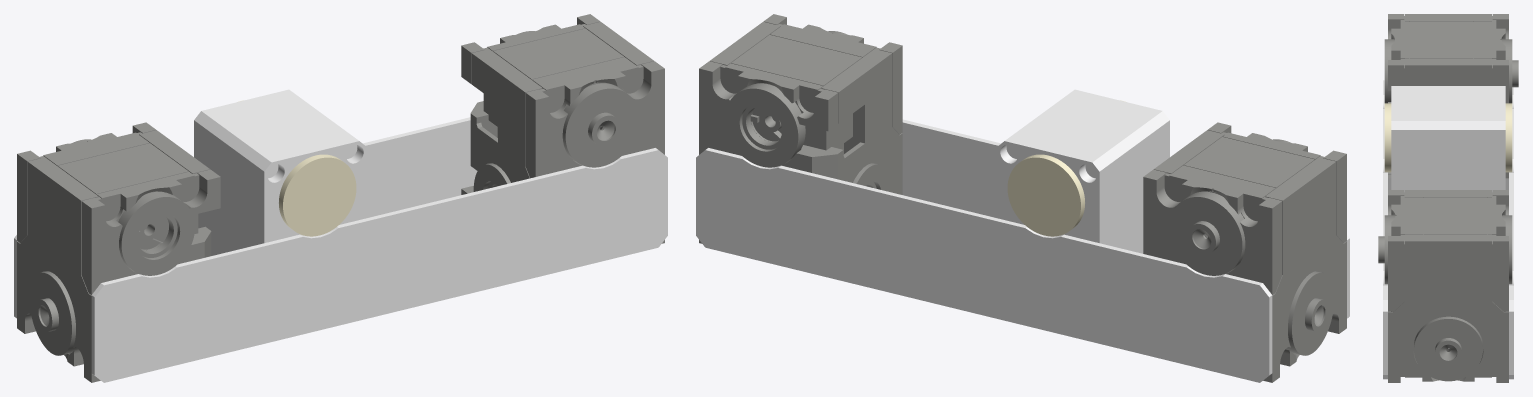
The model's file is leg_motors_visuals.dae.
3 renders of one model, left to right at view 1: azimuth 30°, elevation 25°; view 2: azimuth 150°, elevation 25°; view 3: azimuth 270°, elevation 25°, orthographic. The views are drawn at different scales.
Visible parts, largest first — view 1: Body1.011, Body1, Body1.005, Cuerpo fijo, Body1.010, Body1.007, Eje1, Body1.004, Body1.001, Body1.008; view 2: Body1.010, Body1, Body1.005, Cuerpo fijo, Body1.011, Body1.002, Eje2, Body1.009, Body1.001, Body1.008; view 3: Body1.005, Cuerpo fijo, Body1, Body1.006, Body1.010, Body1.011, Eje1, Eje2, Body1.007, Body1.002, Body1.004, Body1.009.
Boxes of the visible parts, x1=… form: Body1.011: x1=91, y1=148, x2=667, y2=382; Body1: x1=17, y1=122, x2=220, y2=382; Body1.005: x1=461, y1=14, x2=664, y2=243; Cuerpo fijo: x1=194, y1=89, x2=366, y2=255; Body1.010: x1=14, y1=117, x2=477, y2=318; Body1.007: x1=562, y1=83, x2=638, y2=167; Eje1: x1=279, y1=154, x2=356, y2=236; Body1.004: x1=118, y1=191, x2=194, y2=275; Body1.001: x1=29, y1=271, x2=77, y2=355; Body1.008: x1=473, y1=163, x2=510, y2=191; Body1.010: x1=696, y1=148, x2=1272, y2=382; Body1: x1=1143, y1=122, x2=1346, y2=382; Body1.005: x1=699, y1=14, x2=902, y2=243; Cuerpo fijo: x1=997, y1=89, x2=1169, y2=253; Body1.011: x1=902, y1=119, x2=1349, y2=318; Body1.002: x1=1169, y1=191, x2=1245, y2=275; Eje2: x1=1007, y1=154, x2=1084, y2=236; Body1.009: x1=725, y1=83, x2=805, y2=167; Body1.001: x1=1286, y1=271, x2=1334, y2=355; Body1.008: x1=853, y1=163, x2=890, y2=191; Body1.005: x1=1388, y1=190, x2=1508, y2=382; Cuerpo fijo: x1=1391, y1=86, x2=1505, y2=192; Body1: x1=1388, y1=14, x2=1508, y2=178; Body1.006: x1=1414, y1=316, x2=1482, y2=381; Body1.010: x1=1509, y1=87, x2=1513, y2=379; Body1.011: x1=1383, y1=80, x2=1387, y2=379; Eje1: x1=1384, y1=103, x2=1391, y2=172; Eje2: x1=1505, y1=103, x2=1512, y2=172; Body1.007: x1=1378, y1=215, x2=1395, y2=284; Body1.002: x1=1501, y1=39, x2=1518, y2=103; Body1.004: x1=1384, y1=39, x2=1394, y2=103; Body1.009: x1=1502, y1=215, x2=1512, y2=284.
Bounding box in the file's own units: 0.1656 × 0.0418 × 0.0465.
